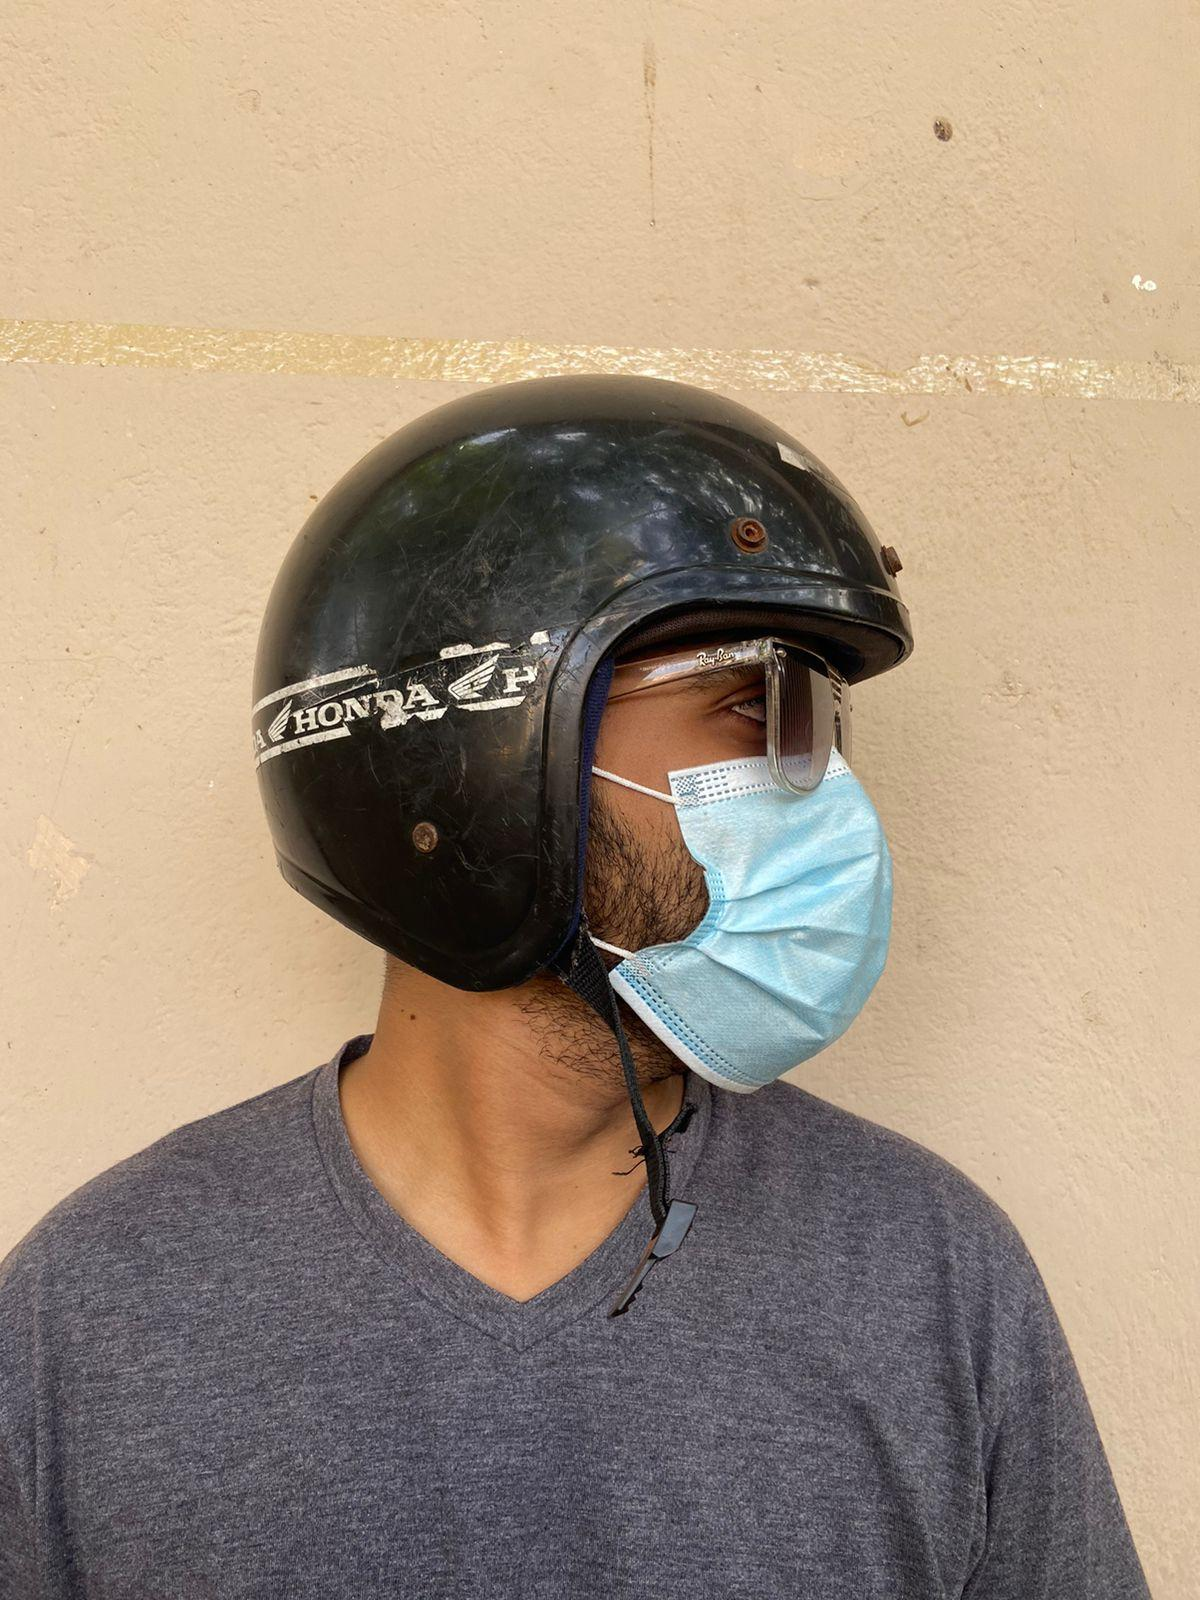helmet: (251, 370, 919, 1002)
